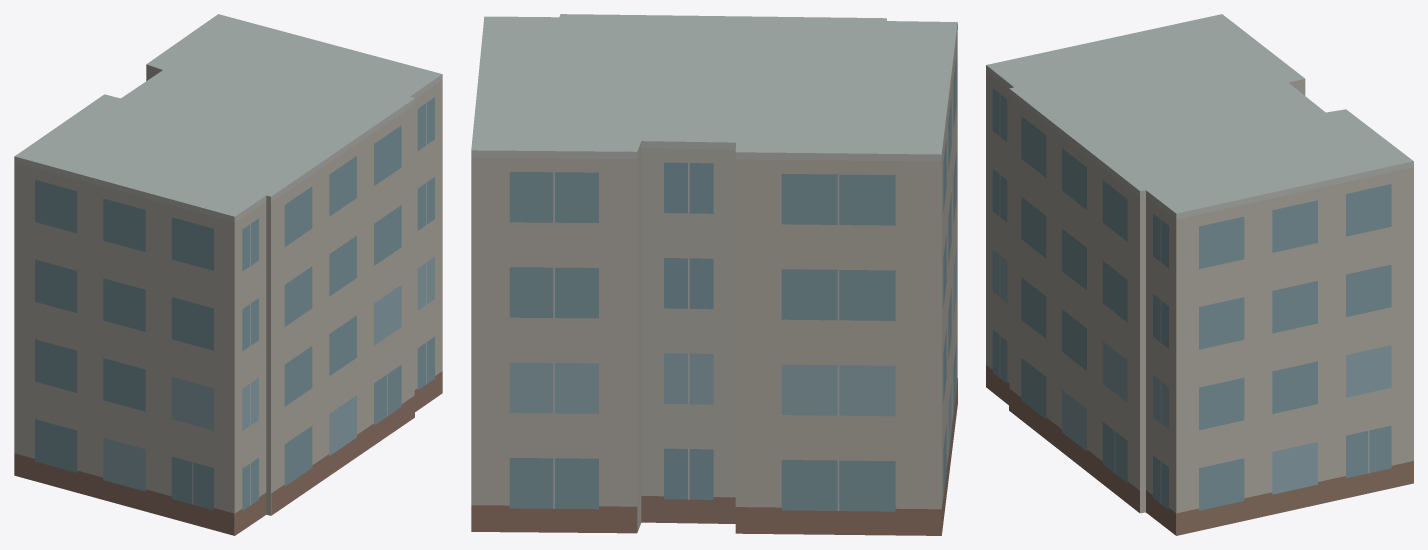
The model's file is survey-upis-32508798.glb.
The picture shows the model from 3 angles, left to right: view 1: azimuth 30°, elevation 25°; view 2: azimuth 150°, elevation 25°; view 3: azimuth 270°, elevation 25°; orthographic projection. The views are drawn at different scales.
Parts seen in each view (by area): view 1: survey-upis-32508798.tmp; view 2: survey-upis-32508798.tmp; view 3: survey-upis-32508798.tmp.
Part boxes in pixels (bbox=[...]): survey-upis-32508798.tmp: bbox=[14, 14, 442, 535]; survey-upis-32508798.tmp: bbox=[471, 14, 957, 535]; survey-upis-32508798.tmp: bbox=[986, 14, 1413, 535].
Bounding box in the file's own units: 17.62 × 13.25 × 15.95.
